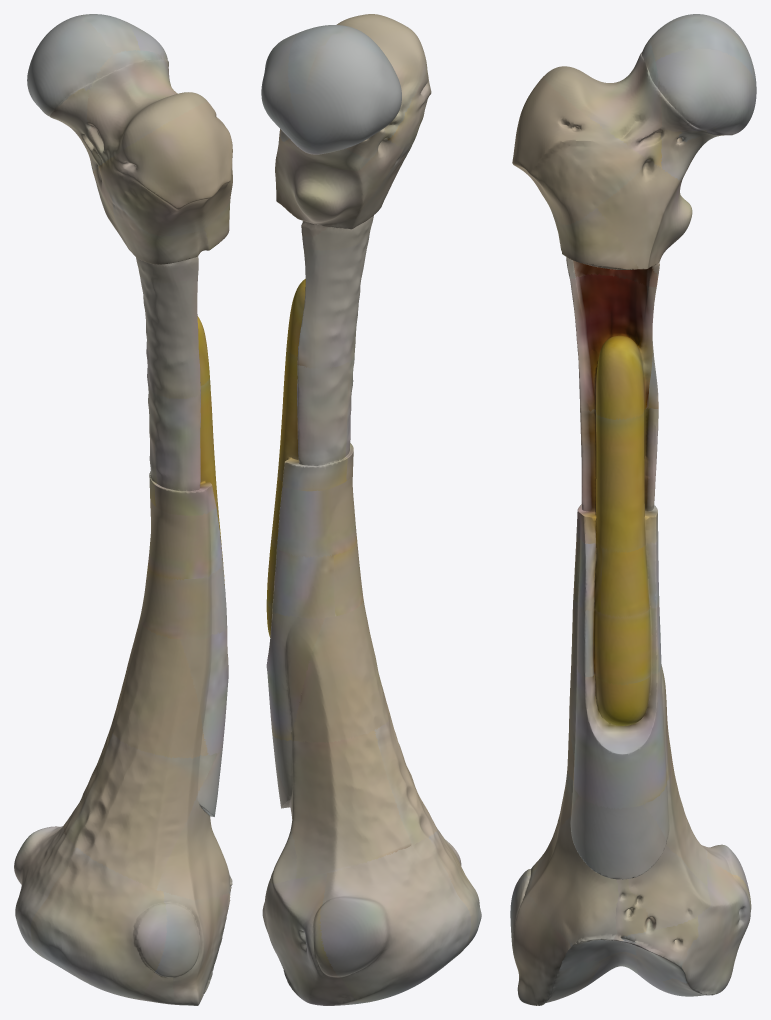
File: bone_structure_compressed.glb
The picture shows the model from 3 angles, left to right: view 1: azimuth 30°, elevation 25°; view 2: azimuth 150°, elevation 25°; view 3: azimuth 270°, elevation 25°; orthographic projection. The views are drawn at different scales.
Parts seen in each view (by area): view 1: tripo_node_23671a63-7dc7-476e-baec-dcf0463a9b52; view 2: tripo_node_23671a63-7dc7-476e-baec-dcf0463a9b52; view 3: tripo_node_23671a63-7dc7-476e-baec-dcf0463a9b52.
Part boxes in pixels (x1,y1,x2,y2): tripo_node_23671a63-7dc7-476e-baec-dcf0463a9b52: [14, 14, 232, 1005]; tripo_node_23671a63-7dc7-476e-baec-dcf0463a9b52: [261, 14, 481, 1005]; tripo_node_23671a63-7dc7-476e-baec-dcf0463a9b52: [510, 14, 756, 1005].
Bounding box in the file's own units: 0.2151 × 1 × 0.23.
Materials: 1 (1 with a texture image).
